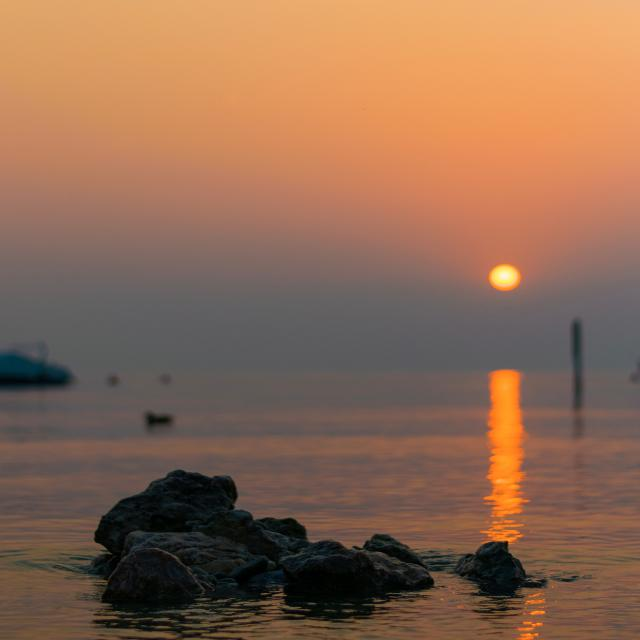reef: (69, 438, 550, 616)
